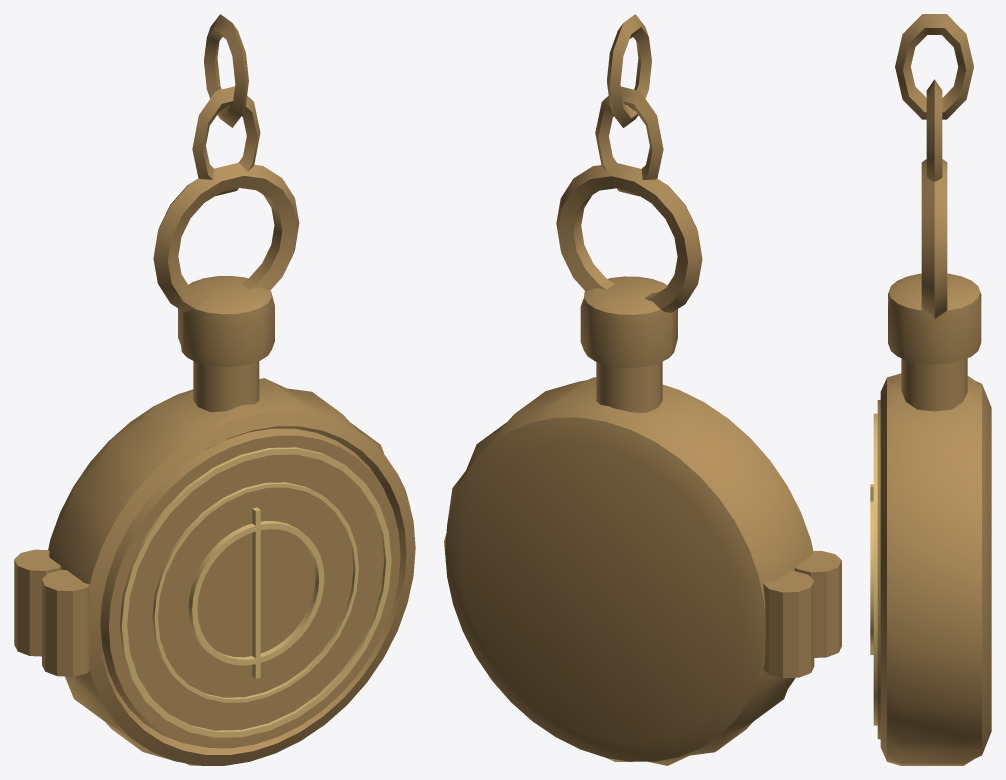
Rendered from pocket_watch.glb.
3 views of the same model, side by side, from view 1: azimuth 30°, elevation 25°; view 2: azimuth 150°, elevation 25°; view 3: azimuth 270°, elevation 25° (orthographic).
Visible parts, largest first — view 1: pocket_watch; view 2: pocket_watch; view 3: pocket_watch.
Boxes of the visible parts, x1=… form: pocket_watch: x1=14, y1=14, x2=415, y2=765; pocket_watch: x1=444, y1=14, x2=841, y2=765; pocket_watch: x1=870, y1=14, x2=991, y2=765.
Size of the model in its own units: 0.0536 by 0.1025 by 0.0153.
